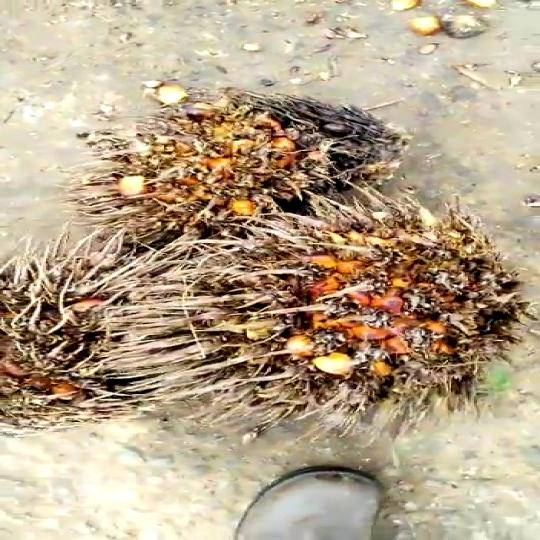terlalu masak: (111, 191, 540, 429), (50, 97, 422, 251)
